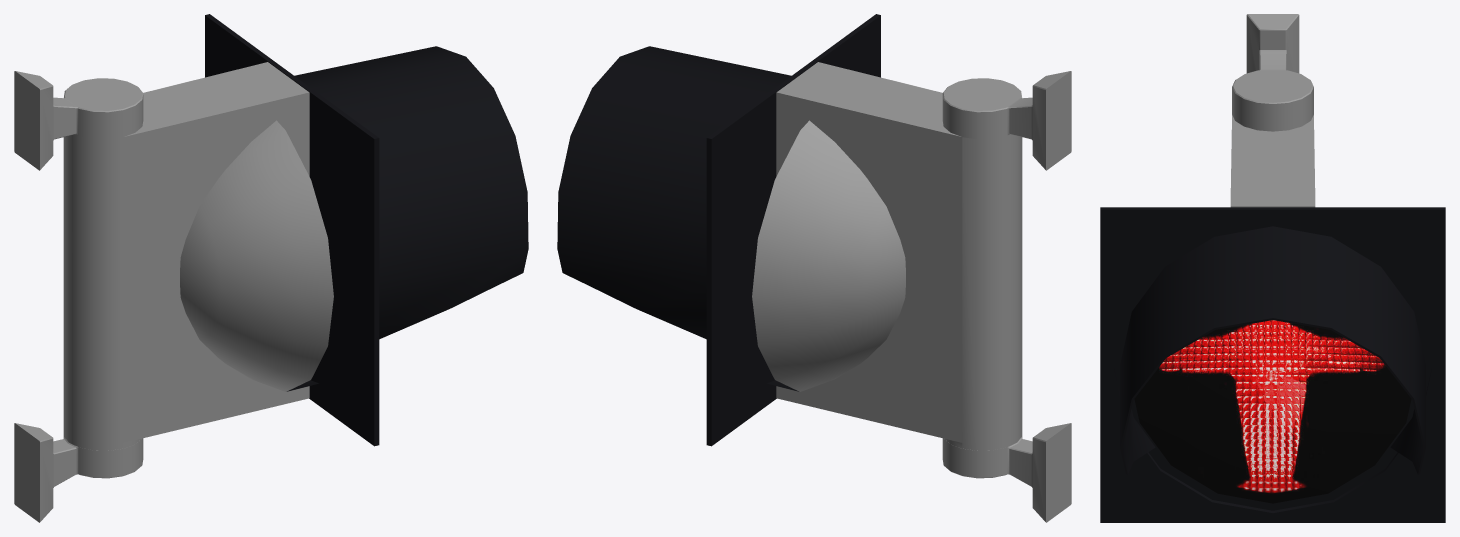
File: Fussgaengerampel_rot_Mast.glb
The picture shows the model from 3 angles, left to right: view 1: azimuth 30°, elevation 25°; view 2: azimuth 150°, elevation 25°; view 3: azimuth 270°, elevation 25°; orthographic projection. The views are drawn at different scales.
Parts seen in each view (by area): view 1: Cube.003, Sonnenblende.003, BezierCurve.001, Blende.003, Masthalterung.002, Masthalterung.003; view 2: Cube.003, Sonnenblende.003, BezierCurve.001, Blende.003, Masthalterung.002, Masthalterung.003; view 3: Blende.003, BezierCurve.001, Sonnenblende.003, Masthalterung.002, Cube.003.
Part boxes in pixels (x1,y1,x2,y2): Cube.003: [63, 62, 309, 450]; Sonnenblende.003: [294, 46, 528, 339]; BezierCurve.001: [180, 120, 333, 391]; Blende.003: [205, 14, 379, 446]; Masthalterung.002: [14, 71, 143, 170]; Masthalterung.003: [14, 423, 143, 522]; Cube.003: [776, 62, 1022, 450]; Sonnenblende.003: [557, 46, 791, 339]; BezierCurve.001: [752, 120, 905, 391]; Blende.003: [706, 14, 880, 446]; Masthalterung.002: [942, 71, 1071, 170]; Masthalterung.003: [942, 423, 1071, 522]; Blende.003: [1100, 207, 1445, 522]; BezierCurve.001: [1114, 320, 1431, 512]; Sonnenblende.003: [1120, 226, 1425, 474]; Masthalterung.002: [1232, 14, 1313, 131]; Cube.003: [1230, 115, 1315, 207].
Bounding box in the file's own units: 0.5668 × 0.5357 × 0.3789.
3 materials, 3 textured.
